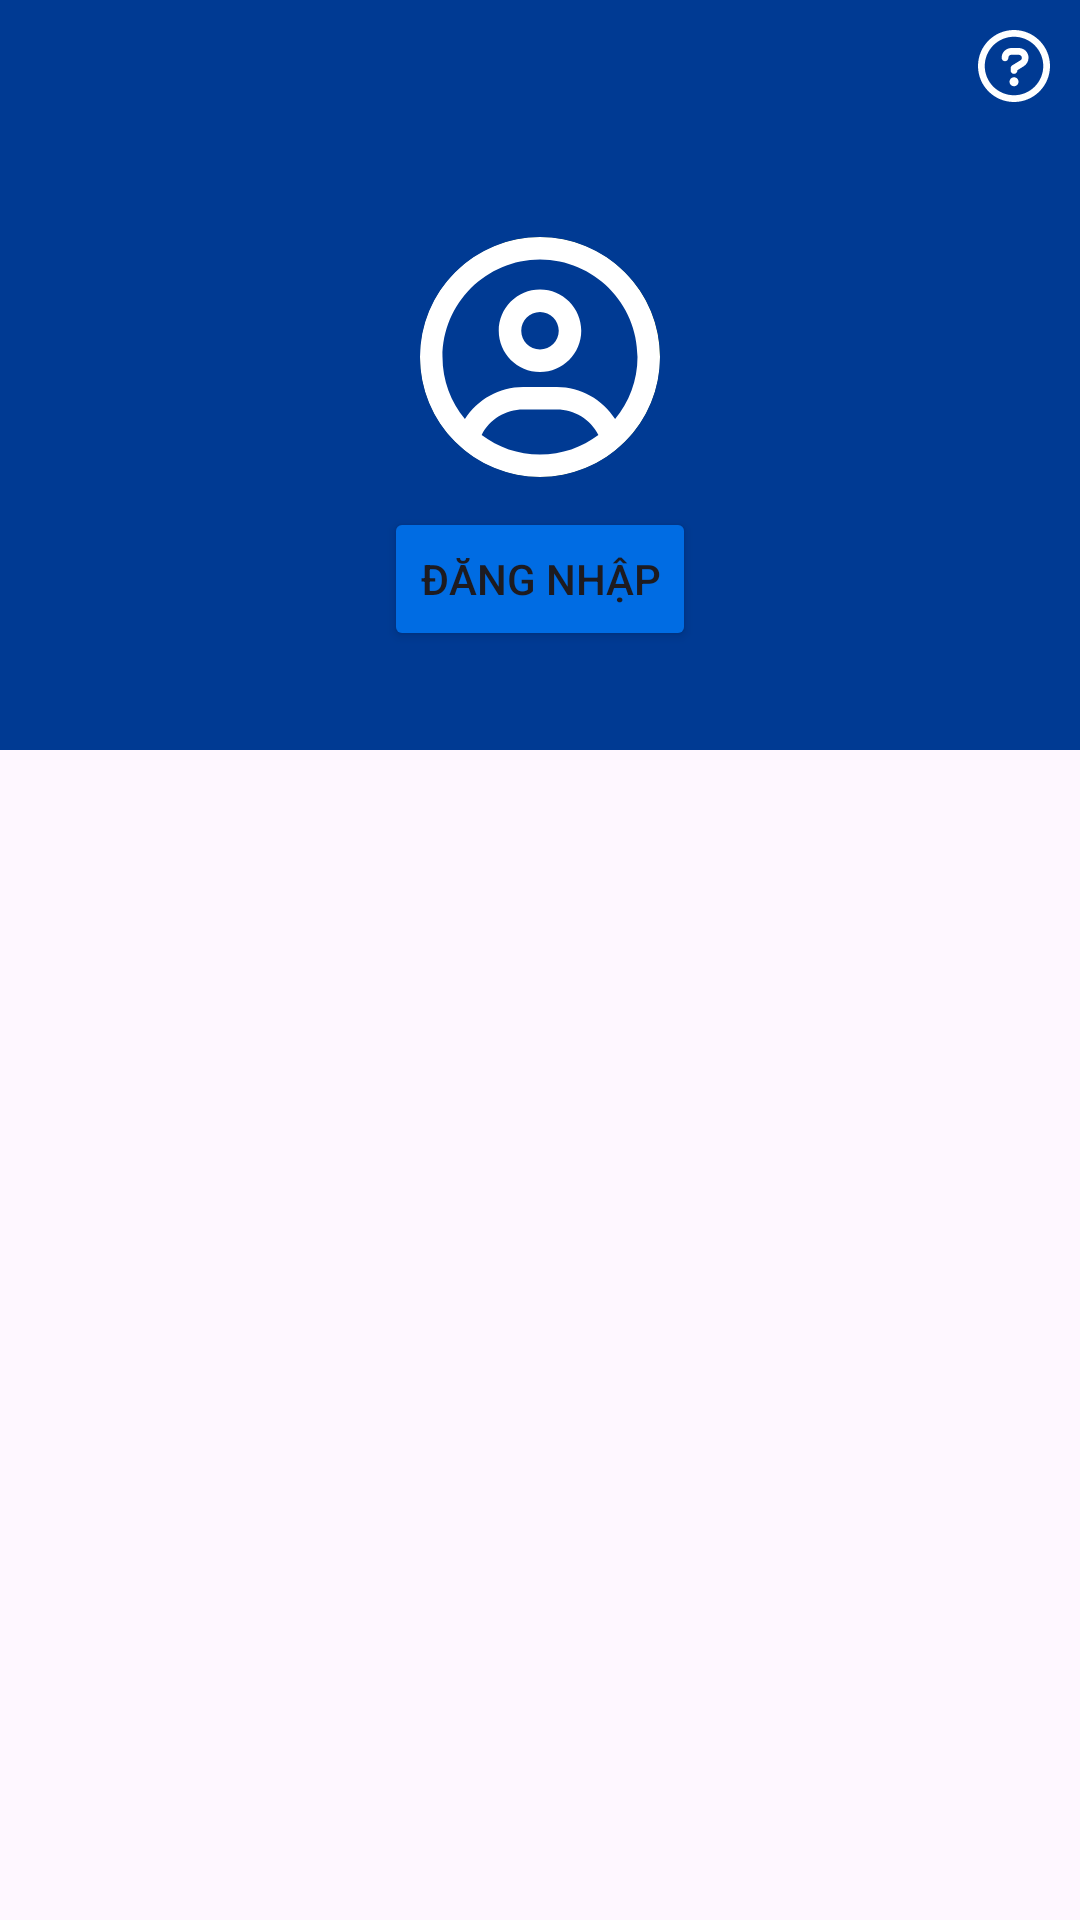

Icon click points for this 1080*1920 phone screenshot, format [x,y]:
circle question: [1014,66]
circle user size: [540,357]
